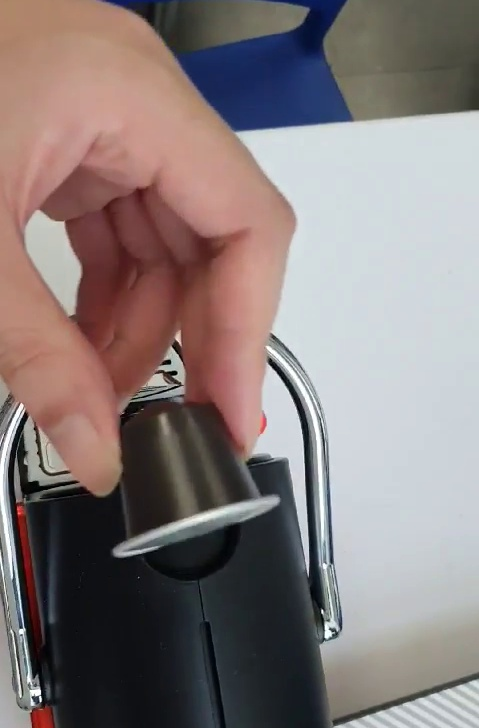capsule_4: (107, 401, 284, 555)
